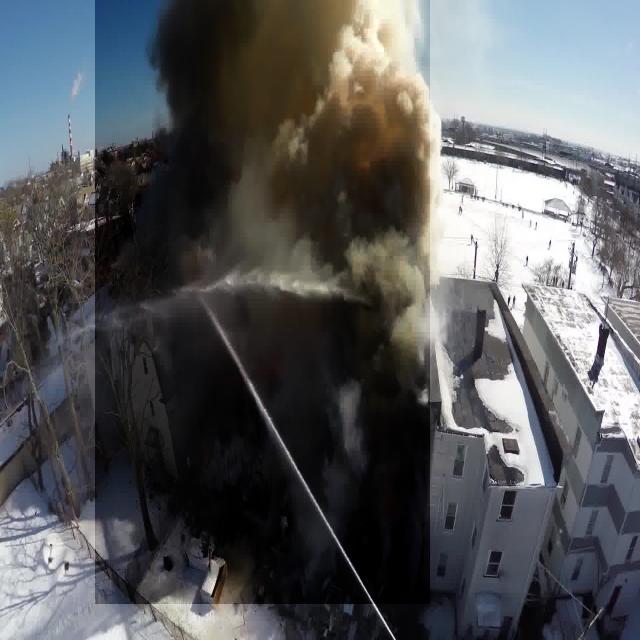Smoke: (95, 0, 430, 604)
